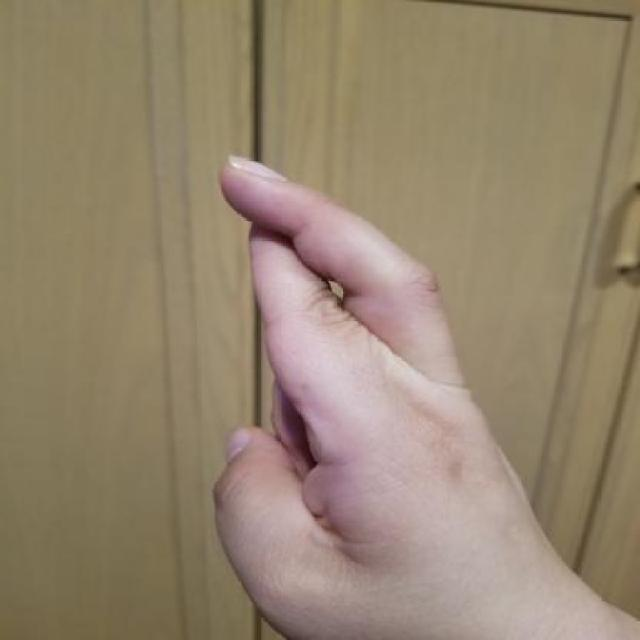R: (192, 142, 591, 640)
